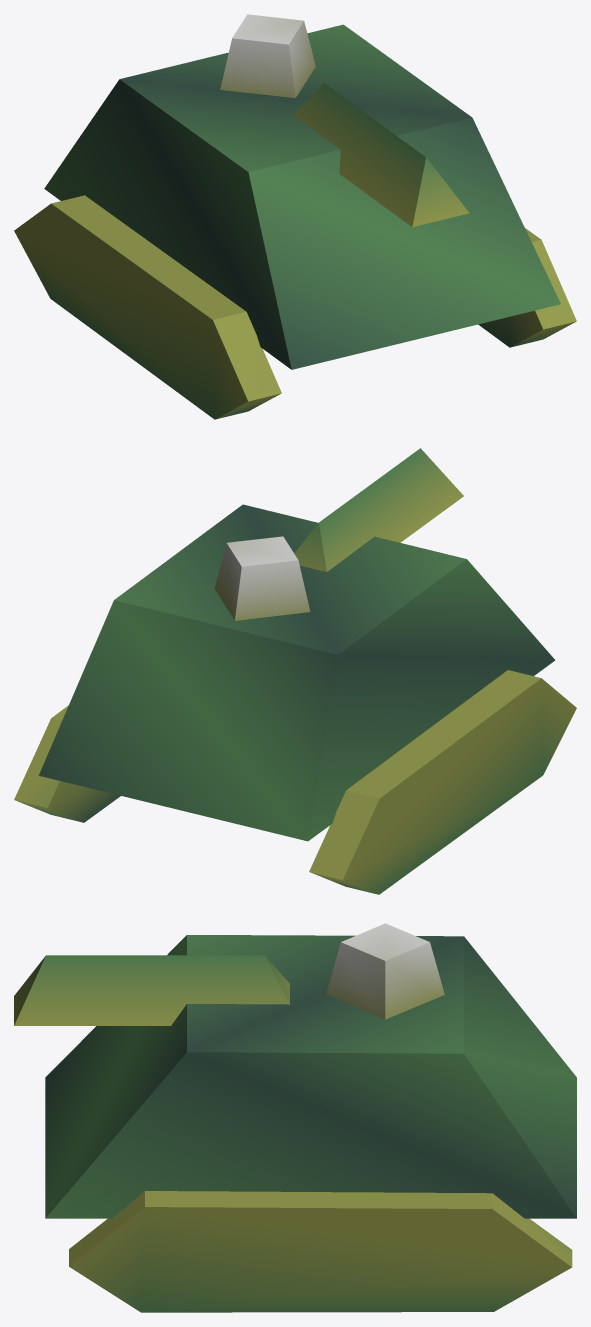
File: girth_tank.glb
3 views of the same model, one above another, from view 1: azimuth 30°, elevation 25°; view 2: azimuth 150°, elevation 25°; view 3: azimuth 270°, elevation 25° (orthographic). The views are drawn at different scales.
Visible parts, largest first — view 1: Cube; view 2: Cube; view 3: Cube.
Part boxes in pixels (box(x1,y1,x2,y2)): Cube: box(14, 14, 576, 419); Cube: box(14, 448, 576, 894); Cube: box(14, 923, 576, 1312).
Bounding box in the file's own units: 1.27 × 0.9829 × 1.75.
